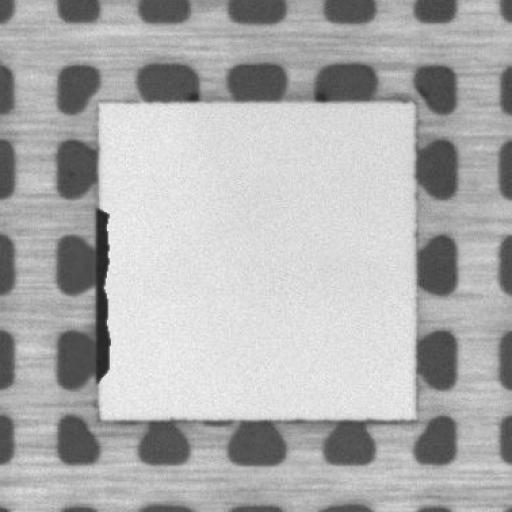DIE_BROKEN: (91, 199, 112, 386)
